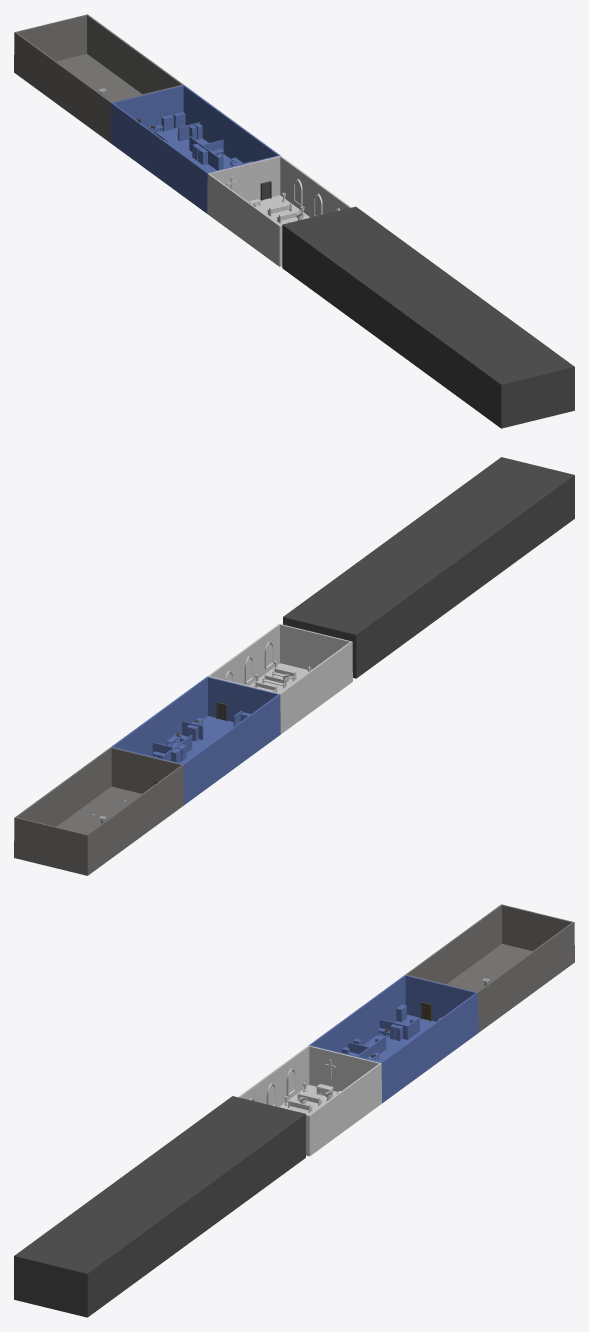
Rendered from SM_Level03_Blocking.fbx.
The picture shows the model from 3 angles, top to bottom: view 1: azimuth 30°, elevation 25°; view 2: azimuth 150°, elevation 25°; view 3: azimuth 330°, elevation 25°; orthographic projection.
Parts seen in each view (by area): view 1: SM_Wall, pCube47, pCube32, pCube31; view 2: SM_Wall, pCube47, pCube32, pCube31; view 3: SM_Wall, pCube47, pCube32, pCube31.
Part boxes in pixels (x1=…): SM_Wall: x1=282, y1=206, x2=574, y2=428; pCube47: x1=14, y1=14, x2=183, y2=142; pCube32: x1=110, y1=85, x2=280, y2=213; pCube31: x1=207, y1=155, x2=351, y2=266; SM_Wall: x1=283, y1=457, x2=574, y2=678; pCube47: x1=14, y1=747, x2=184, y2=875; pCube32: x1=111, y1=676, x2=280, y2=804; pCube31: x1=207, y1=624, x2=352, y2=734; SM_Wall: x1=14, y1=1096, x2=305, y2=1317; pCube47: x1=405, y1=904, x2=574, y2=1032; pCube32: x1=309, y1=975, x2=478, y2=1103; pCube31: x1=238, y1=1045, x2=381, y2=1156.
Size of what is drawn, in the model's own units: 1391 by 802 by 15828.
